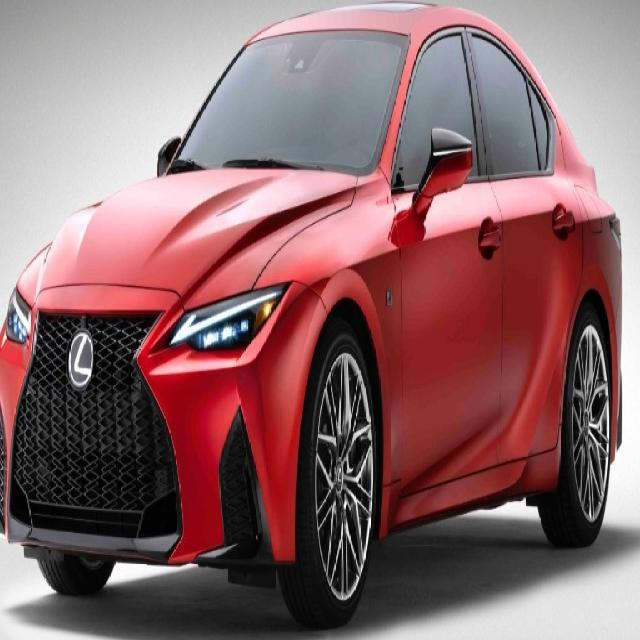red: (0, 6, 624, 611)
